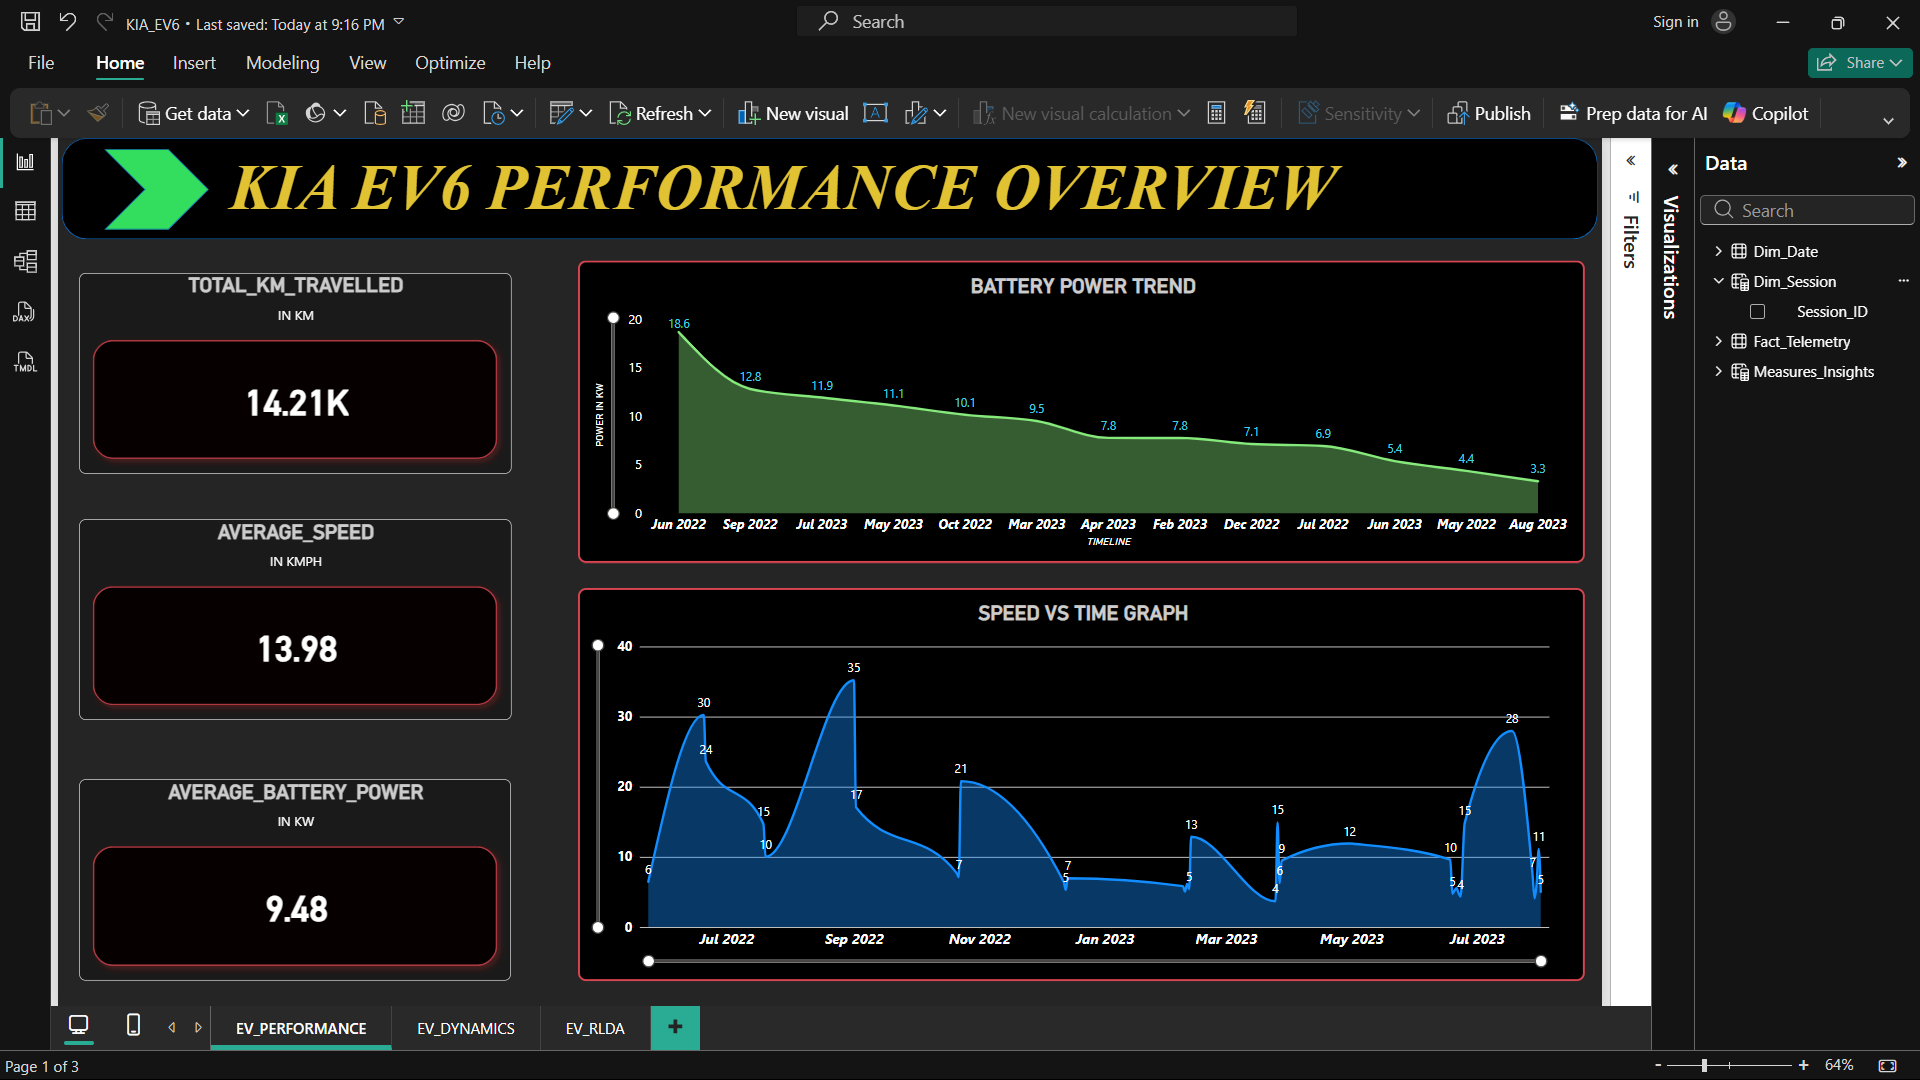

Layout of this report page (visuals, bound fields, positions):
{"tool":"powerbi","page":{"name":"EV_PERFORMANCE","canvas":[1920,1080],"ordinal":0},"visuals":[{"type":"shape","box":[4,0,1910,126],"z":0},{"type":"shape","box":[58,14,130,100],"z":1000},{"type":"textbox","box":[188,16,1426,94],"z":2000},{"type":"cardVisual","title":"TOTAL_KM_TRAVELLED","fields":{"Data":["Dim_Date.Total_Distance"]},"box":[25.9,168.5,537.2,249.4],"z":3000},{"type":"cardVisual","title":"AVERAGE_SPEED","fields":{"Data":["Measures_Insights.Avg_Speed"]},"box":[25.9,474.1,537.2,249.4],"z":4000},{"type":"cardVisual","title":"AVERAGE_BATTERY_POWER","fields":{"Data":["Measures_Insights.Avg_Battery_Power"]},"box":[25.9,798.1,537,250],"z":5000},{"type":"lineChart","title":"SPEED VS TIME   GRAPH","fields":{"Y":["Avg(Fact_Telemetry .Vehicle_Speed_kmh)"],"Category":["Fact_Telemetry .Timestamp.Variation.Date Hierarchy.Year","Fact_Telemetry .Timestamp.Variation.Date Hierarchy.Quarter","Fact_Telemetry .Timestamp.Variation.Date Hierarchy.Month","Fact_Telemetry .Timestamp.Variation.Date Hierarchy.Day"]},"box":[646.3,559.3,1251.9,488.9],"z":6000},{"type":"lineChart","title":"BATTERY POWER TREND  ","fields":{"Y":["Avg(Fact_Telemetry .Battery_Power_Calculated_kW)"],"Category":["Dim_Date.Year_Month"]},"box":[646.3,151.9,1251.9,375.9],"z":7000}]}

Visuals, with their boxes on the page's 1920x1080 design canvas (x1, y1, x2, y2). These are canvas units, not pixel positions in the 1920x1080 screenshot, which may show the page scaled, cropped or inside an application window:
shape: BBox(4, 0, 1914, 126)
shape: BBox(58, 14, 188, 114)
textbox: BBox(188, 16, 1614, 110)
"TOTAL_KM_TRAVELLED" cardVisual: BBox(26, 168, 563, 418)
"AVERAGE_SPEED" cardVisual: BBox(26, 474, 563, 724)
"AVERAGE_BATTERY_POWER" cardVisual: BBox(26, 798, 563, 1048)
"SPEED VS TIME   GRAPH" lineChart: BBox(646, 559, 1898, 1048)
"BATTERY POWER TREND  " lineChart: BBox(646, 152, 1898, 528)
